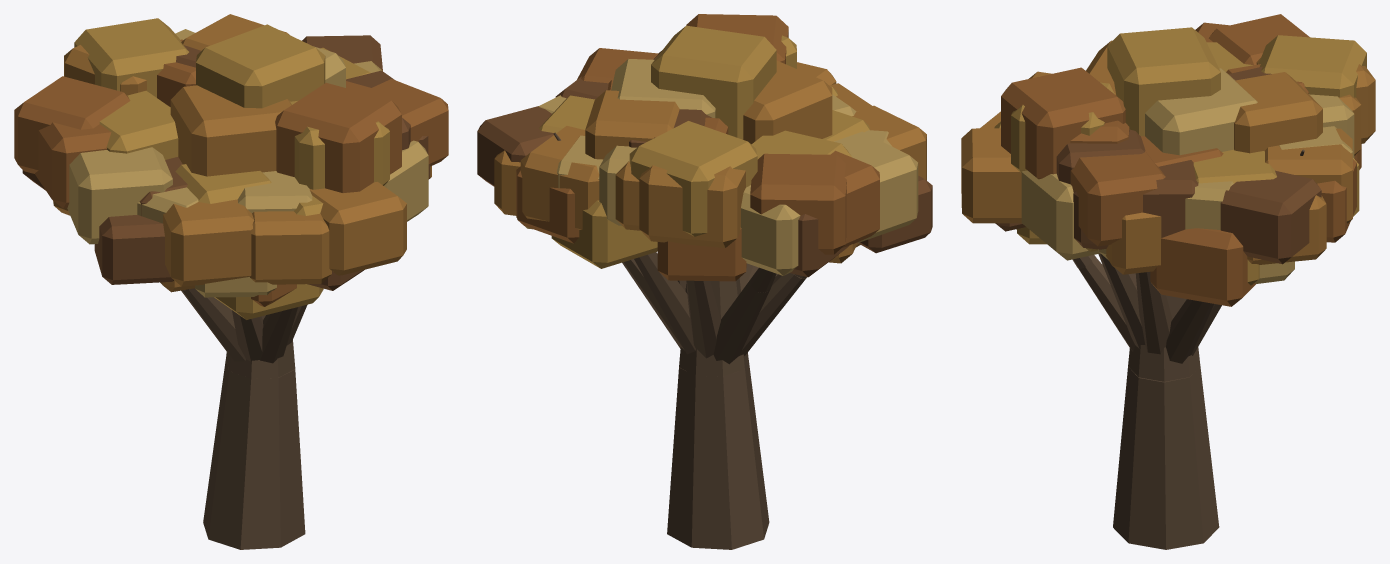
Rendered from oak_ancient_autumn.glb.
3 renders of one model, left to right at view 1: azimuth 30°, elevation 25°; view 2: azimuth 150°, elevation 25°; view 3: azimuth 270°, elevation 25°, orthographic.
Visible parts, largest first — view 1: oak_ancient_autumn; view 2: oak_ancient_autumn; view 3: oak_ancient_autumn.
Part boxes in pixels (<box>): oak_ancient_autumn: <box>14,14,448,549</box>; oak_ancient_autumn: <box>477,14,932,549</box>; oak_ancient_autumn: <box>961,14,1375,549</box>.
Bounding box in the file's own units: 19.31 × 24 × 18.68.
